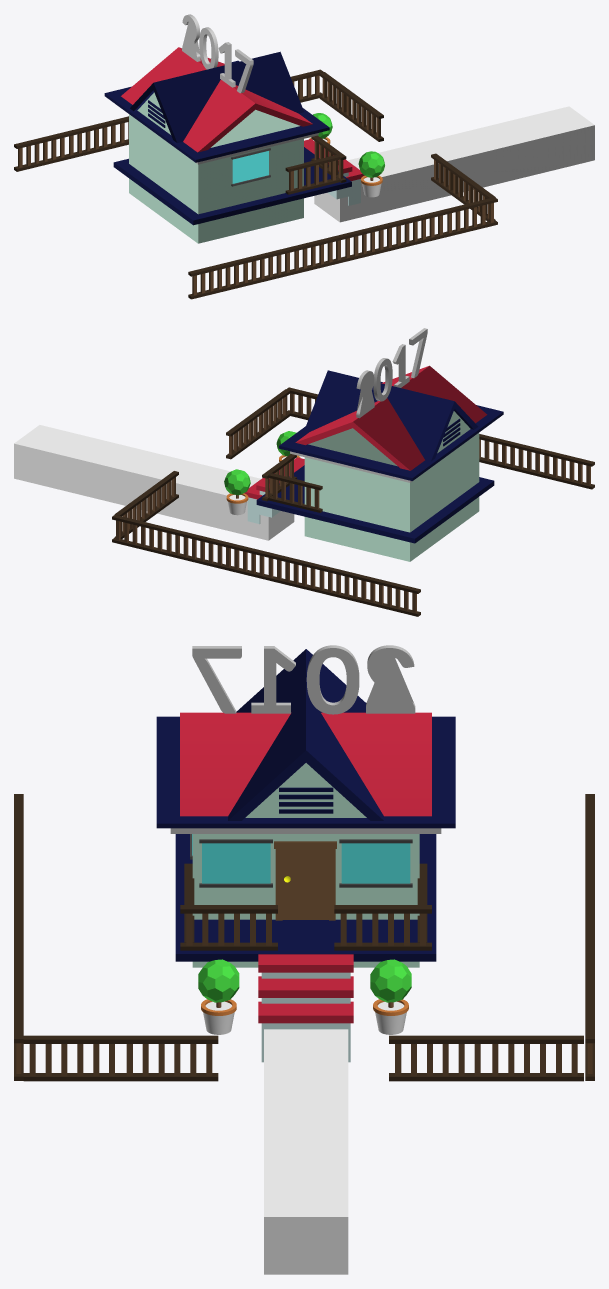
Rendered from casitaexport.obj.
The picture shows the model from 3 angles, top to bottom: view 1: azimuth 30°, elevation 25°; view 2: azimuth 150°, elevation 25°; view 3: azimuth 270°, elevation 25°; orthographic projection. The views are drawn at different scales.
Parts seen in each view (by area): view 1: Cube.4, Cube.2, Cube.5_2, Cube.5_7, Cube.3, Cube_3, Cap_2, Cube.9, Cube.7, Extrude, Platonic, Cube.1_3 (+1 smaller); view 2: Cube.4, Cube.2, Cube.5_7, Cube.5_3, Cube.3, Cube_3, Cap_2, Cube.9, Extrude, Platonic_1, Cube.5_2, Cube.1_3 (+1 smaller); view 3: Cube.4, Cube.5_7, Cube.3, Cube_3, Cube.2, Cap_1, Cube.5_2, Cube.5_3, Cube.6, Cube.7_9, Cube.7_8, Cube.5 (+14 smaller).
Part boxes in pixels (x1,y1,x2,y2): Cube.4: (314,106,594,222); Cube.2: (129,114,303,243); Cube.5_2: (130,52,303,142); Cube.5_7: (121,47,312,152); Cube.3: (113,147,351,225); Cube_3: (104,60,329,162); Cap_2: (182,15,250,93); Cube.9: (211,109,299,147); Cube.7: (232,151,268,183); Extrude: (186,14,253,92); Platonic: (358,151,384,177); Cube.1_3: (115,104,318,164); Cube.4: (14,425,294,540); Cube.2: (304,433,479,561); Cube.5_7: (295,365,487,470); Cube.5_3: (304,370,454,461); Cube.3: (256,465,494,543); Cube_3: (279,382,503,480); Cap_2: (359,329,427,417); Cube.9: (308,428,397,466); Extrude: (356,328,426,418); Platonic_1: (224,469,250,495); Cube.5_2: (347,375,478,460); Cube.1_3: (290,423,491,482); Cube.4: (264,1029,348,1274); Cube.5_7: (180,712,431,816); Cube.3: (175,834,436,961); Cube_3: (156,716,455,828); Cube.2: (192,834,419,967); Cap_1: (192,648,415,714); Cube.5_2: (228,649,383,820); Cube.5_3: (302,649,384,820); Cube.6: (282,849,328,919); Cube.7_9: (341,843,410,883); Cube.7_8: (202,843,270,883); Cube.5: (245,763,366,817).
Size of the model in its own units: 2861 by 1168 by 1830.
